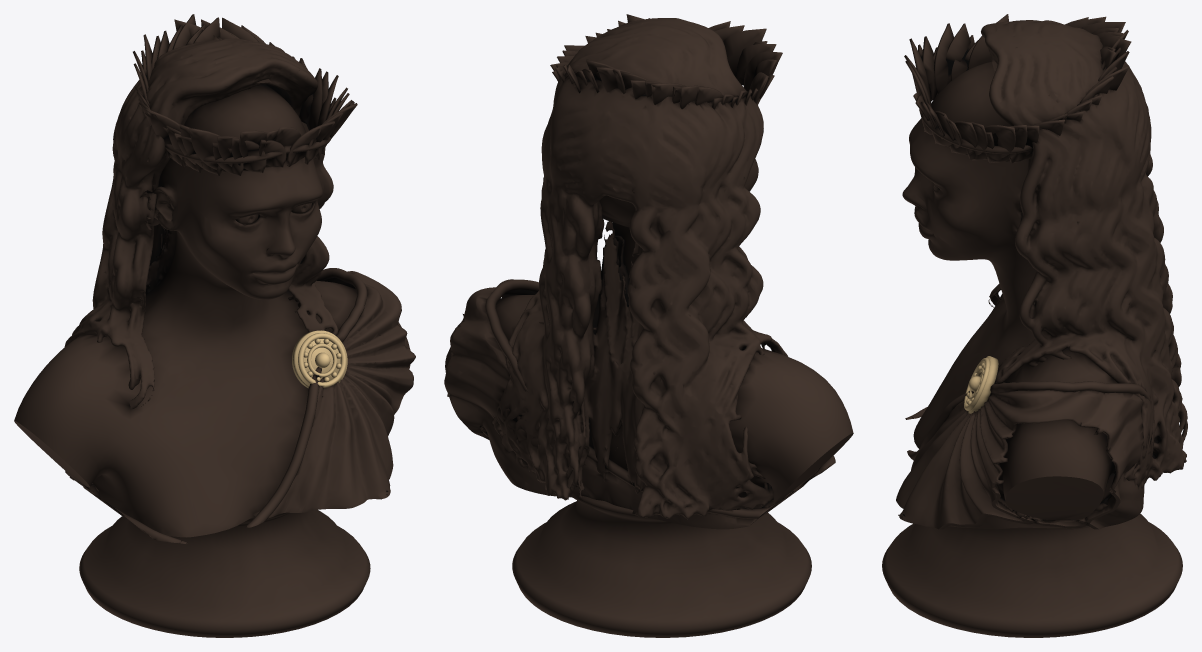
File: atenea.glb
3 views of the same model, side by side, from view 1: azimuth 30°, elevation 25°; view 2: azimuth 150°, elevation 25°; view 3: azimuth 270°, elevation 25° (orthographic). The views are drawn at different scales.
Visible parts, largest first — view 1: marble, gold; view 2: marble; view 3: marble, gold.
Boxes of the visible parts, x1=… form: marble: x1=14, y1=14, x2=415, y2=637; gold: x1=292, y1=330, x2=347, y2=388; marble: x1=444, y1=14, x2=853, y2=637; marble: x1=882, y1=14, x2=1187, y2=637; gold: x1=964, y1=356, x2=998, y2=413.
Size of the model in its own units: 0.4638 by 0.6205 by 0.3151.
Materials: 2 (1 with a texture image).
